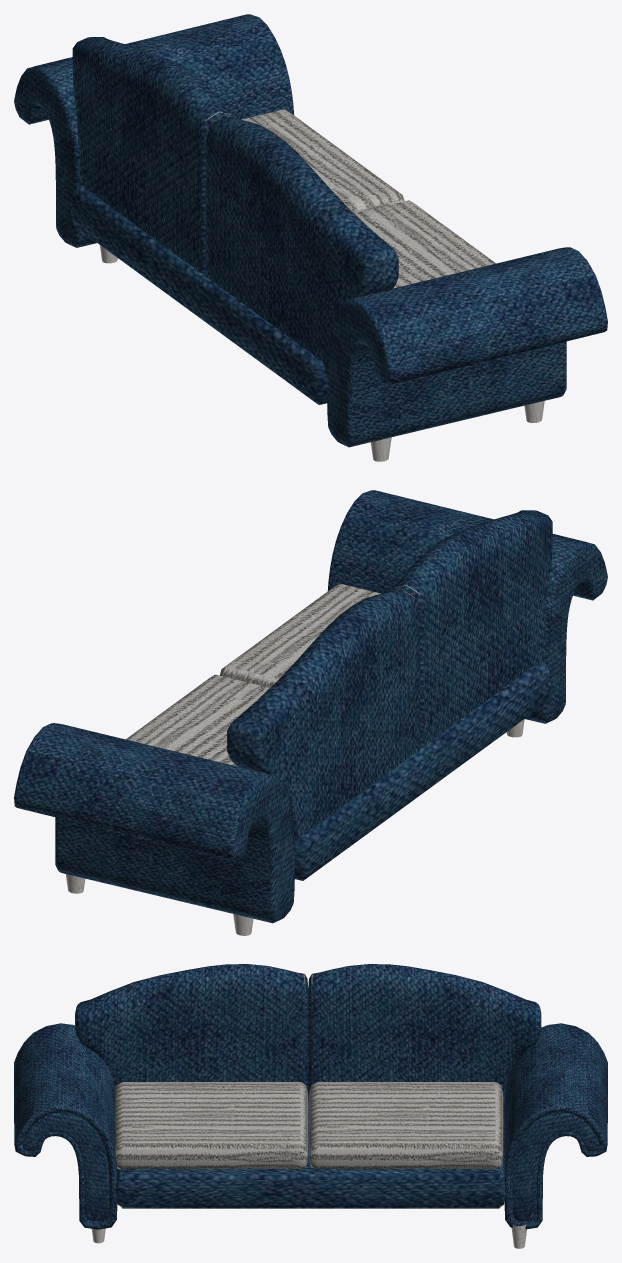
Rendered from Couch.fbx.
The picture shows the model from 3 angles, top to bottom: view 1: azimuth 30°, elevation 25°; view 2: azimuth 150°, elevation 25°; view 3: azimuth 270°, elevation 25°; orthographic projection. The views are drawn at different scales.
Parts seen in each view (by area): view 1: pCube56, pCube54, pCube26, pCube57, sit1, pCube55, pCube27; view 2: pCube57, pCube26, pCube54, pCube56, sit1, pCube27, pCube55; view 3: pCube26, pCube54, pCube27, pCube55, sit1, pCube57, pCube56.
Boxes of the visible parts, <box> form: pCube56: <box>327,247,607,447</box>; pCube54: <box>205,115,398,375</box>; pCube26: <box>72,37,232,273</box>; pCube57: <box>14,14,294,247</box>; sit1: <box>70,185,327,404</box>; pCube55: <box>354,200,495,288</box>; pCube27: <box>241,109,404,213</box>; pCube57: <box>14,723,294,923</box>; pCube26: <box>227,589,419,843</box>; pCube54: <box>392,510,552,746</box>; pCube56: <box>327,490,607,723</box>; sit1: <box>294,661,551,880</box>; pCube27: <box>126,674,269,766</box>; pCube55: <box>220,583,380,687</box>; pCube26: <box>308,964,541,1106</box>; pCube54: <box>75,964,308,1094</box>; pCube27: <box>309,1082,503,1168</box>; pCube55: <box>115,1082,308,1169</box>; sit1: <box>115,1100,505,1208</box>; pCube57: <box>504,1023,607,1229</box>; pCube56: <box>14,1023,117,1229</box>.
Size of the model in its own units: 7.74 by 8.34 by 21.68.
Materials: 1 (1 with a texture image).
